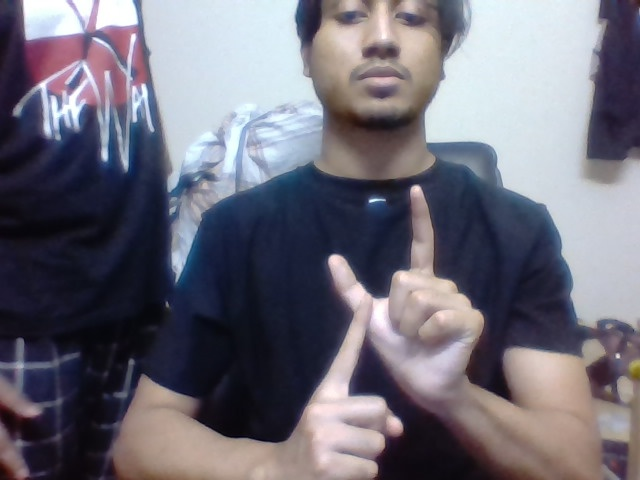Y: (313, 183, 437, 375)
